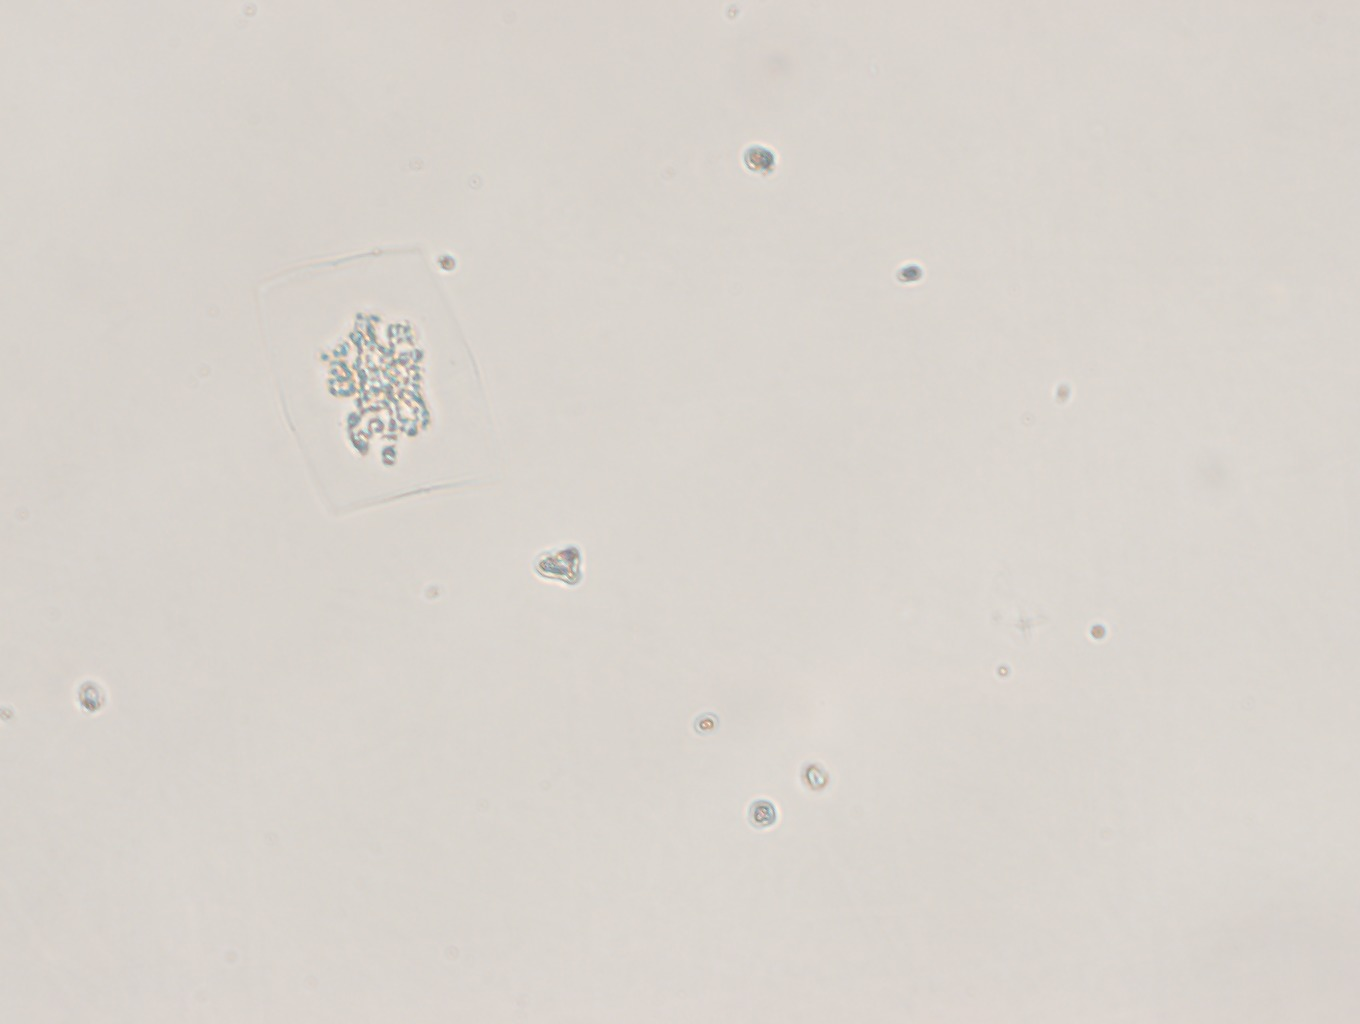helicotheca: (247, 237, 517, 530)
